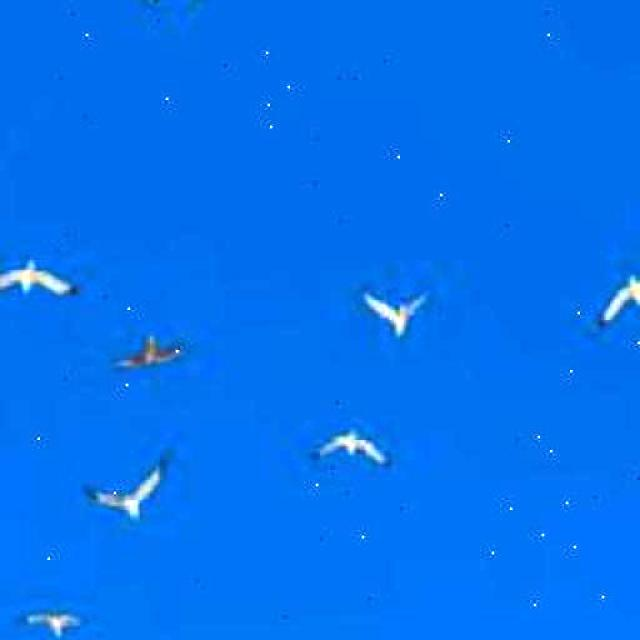airplane: (79, 450, 178, 528), (349, 274, 441, 350), (0, 244, 85, 316), (302, 418, 395, 480), (106, 322, 188, 381), (590, 266, 640, 336), (18, 599, 85, 640), (135, 0, 218, 14)
